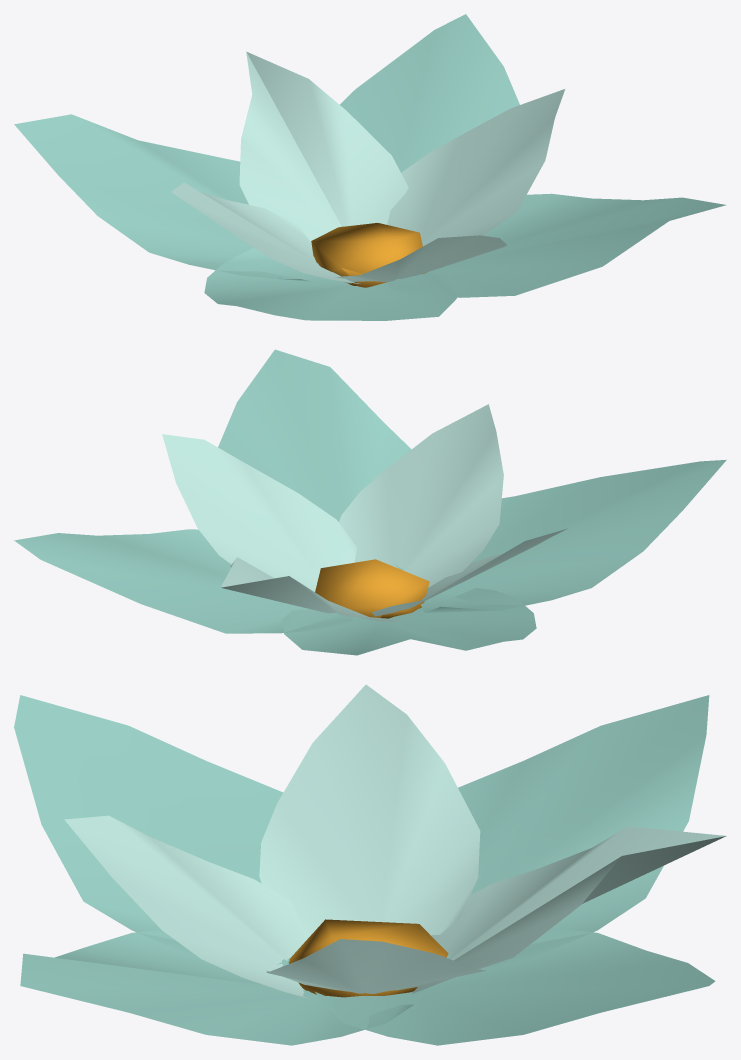
The model's file is flower_blue.glb.
3 views of the same model, one above another, from view 1: azimuth 30°, elevation 25°; view 2: azimuth 150°, elevation 25°; view 3: azimuth 270°, elevation 25° (orthographic). The views are drawn at different scales.
Visible parts, largest first — view 1: flower_blue; view 2: flower_blue; view 3: flower_blue.
Boxes of the visible parts, left/top/right/bottom form: flower_blue: left=14, top=14, right=726, bottom=320; flower_blue: left=14, top=349, right=726, bottom=655; flower_blue: left=14, top=684, right=726, bottom=1045.
Bounding box in the file's own units: 0.2055 × 0.0584 × 0.2127.
